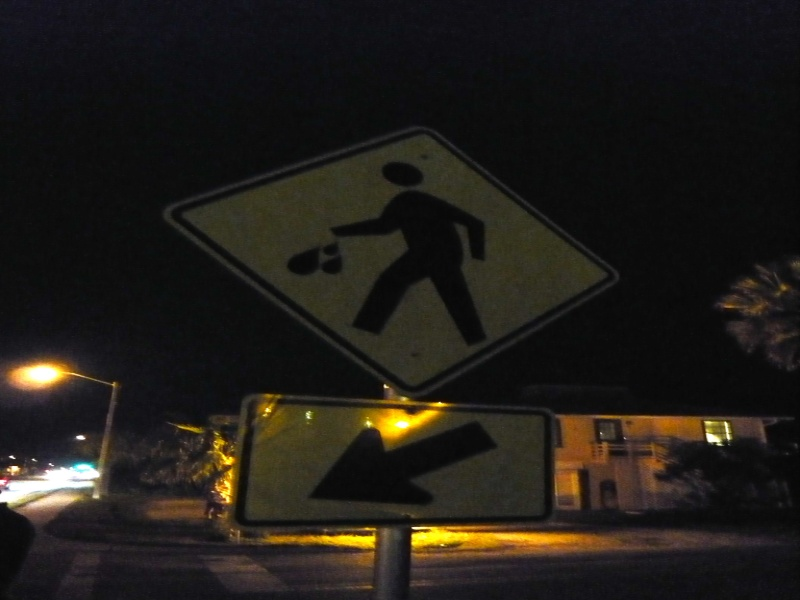left_direction: (306, 400, 501, 522)
pedestrian_crossing_ahead: (164, 114, 624, 397)
